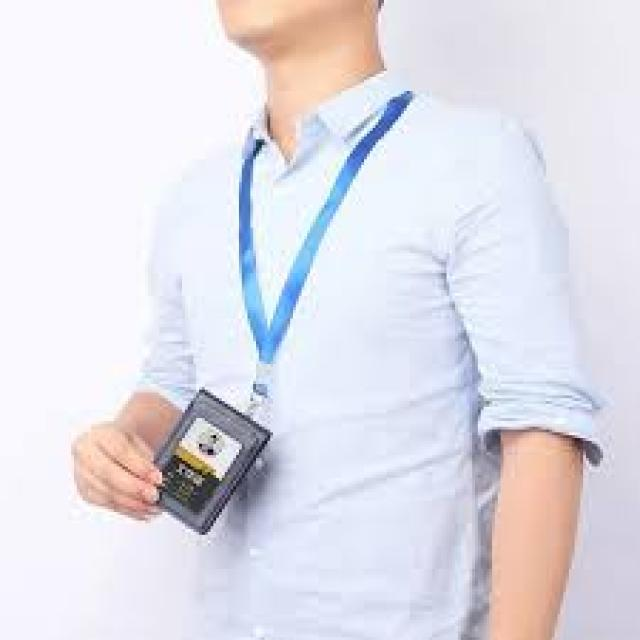id_card: (158, 89, 382, 549)
